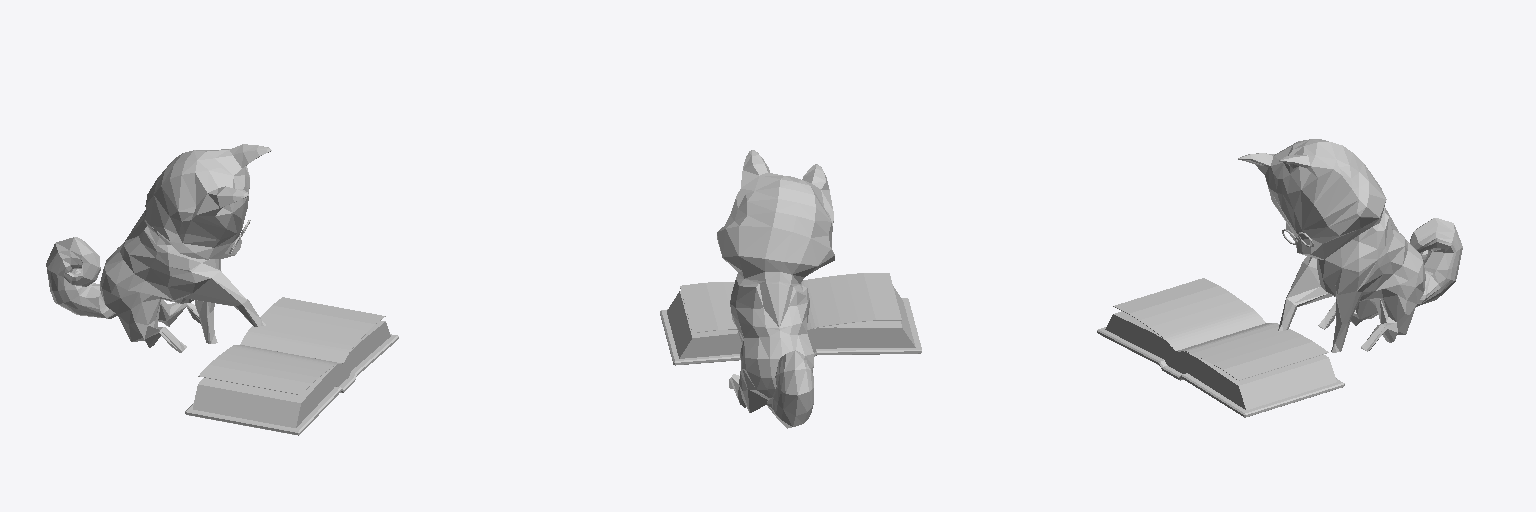
File: book_frame47.obj
The picture shows the model from 3 angles: view 1: azimuth 30°, elevation 25°; view 2: azimuth 150°, elevation 25°; view 3: azimuth 270°, elevation 25°; orthographic projection.
Parts seen in each view (by area): view 1: StidyGlasses_Computer_Sitting:Sitting:newRigging:BodzL1, polySurface1; view 2: StidyGlasses_Computer_Sitting:Sitting:newRigging:BodzL1, polySurface1; view 3: StidyGlasses_Computer_Sitting:Sitting:newRigging:BodzL1, polySurface1.
Part boxes in pixels (bbox=[...]): StidyGlasses_Computer_Sitting:Sitting:newRigging:BodzL1: bbox=[46, 144, 271, 352]; polySurface1: bbox=[185, 297, 398, 435]; StidyGlasses_Computer_Sitting:Sitting:newRigging:BodzL1: bbox=[717, 150, 834, 428]; polySurface1: bbox=[660, 273, 921, 365]; StidyGlasses_Computer_Sitting:Sitting:newRigging:BodzL1: bbox=[1238, 139, 1462, 352]; polySurface1: bbox=[1097, 278, 1344, 417].
Bounding box in the file's own units: 8.93 × 7.04 × 11.31.